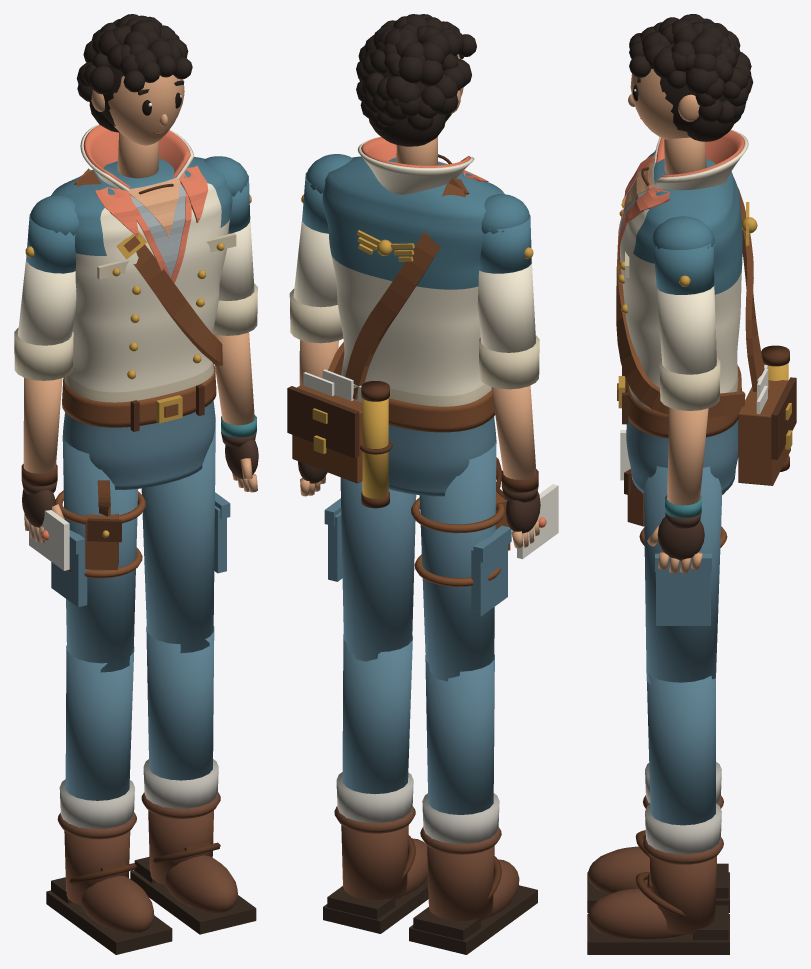
Rendered from courier-no-goggles.glb.
The picture shows the model from 3 angles, left to right: view 1: azimuth 30°, elevation 25°; view 2: azimuth 150°, elevation 25°; view 3: azimuth 270°, elevation 25°; orthographic projection. The views are drawn at different scales.
Parts seen in each view (by area): view 1: body_mesh, kneeR_mesh, kneeL_mesh, legR_mesh, legL_mesh, head_mesh, armR_mesh, elbowR_mesh, elbowL_mesh, armL_mesh, handL_mesh, handR_mesh (+1 smaller); view 2: body_mesh, kneeR_mesh, kneeL_mesh, legR_mesh, head_mesh, legL_mesh, armR_mesh, elbowR_mesh, armL_mesh, elbowL_mesh, handR_mesh, letter_mesh (+1 smaller); view 3: body_mesh, kneeL_mesh, head_mesh, legL_mesh, armL_mesh, elbowL_mesh, kneeR_mesh, handL_mesh, legR_mesh.
Boxes of the visible parts, <box> form: body_mesh: <box>51,124,236,489</box>; kneeR_mesh: <box>46,645,172,954</box>; kneeL_mesh: <box>130,626,256,934</box>; legR_mesh: <box>51,435,146,672</box>; legL_mesh: <box>141,417,230,653</box>; head_mesh: <box>76,14,192,178</box>; armR_mesh: <box>18,195,79,345</box>; elbowR_mesh: <box>14,327,73,473</box>; elbowL_mesh: <box>212,283,257,425</box>; armL_mesh: <box>204,156,254,301</box>; handL_mesh: <box>221,415,258,492</box>; handR_mesh: <box>21,464,64,542</box>; body_mesh: <box>287,136,504,508</box>; kneeR_mesh: <box>409,654,537,954</box>; kneeL_mesh: <box>323,634,428,933</box>; legR_mesh: <box>411,440,511,681</box>; head_mesh: <box>356,14,476,165</box>; legL_mesh: <box>324,477,416,661</box>; armR_mesh: <box>477,194,535,352</box>; elbowR_mesh: <box>479,335,539,479</box>; armL_mesh: <box>293,154,352,307</box>; elbowL_mesh: <box>289,289,343,385</box>; handR_mesh: <box>501,469,540,548</box>; letter_mesh: <box>517,484,558,559</box>; body_mesh: <box>616,129,796,493</box>; kneeL_mesh: <box>587,673,729,954</box>; head_mesh: <box>628,14,753,174</box>; legL_mesh: <box>644,466,722,684</box>; armL_mesh: <box>652,216,716,374</box>; elbowL_mesh: <box>659,357,720,505</box>; kneeR_mesh: <box>587,762,729,912</box>; handL_mesh: <box>647,495,704,573</box>; legR_mesh: <box>624,469,727,547</box>.
Bounding box in the file's own units: 0.508 × 1.81 × 0.3812.
